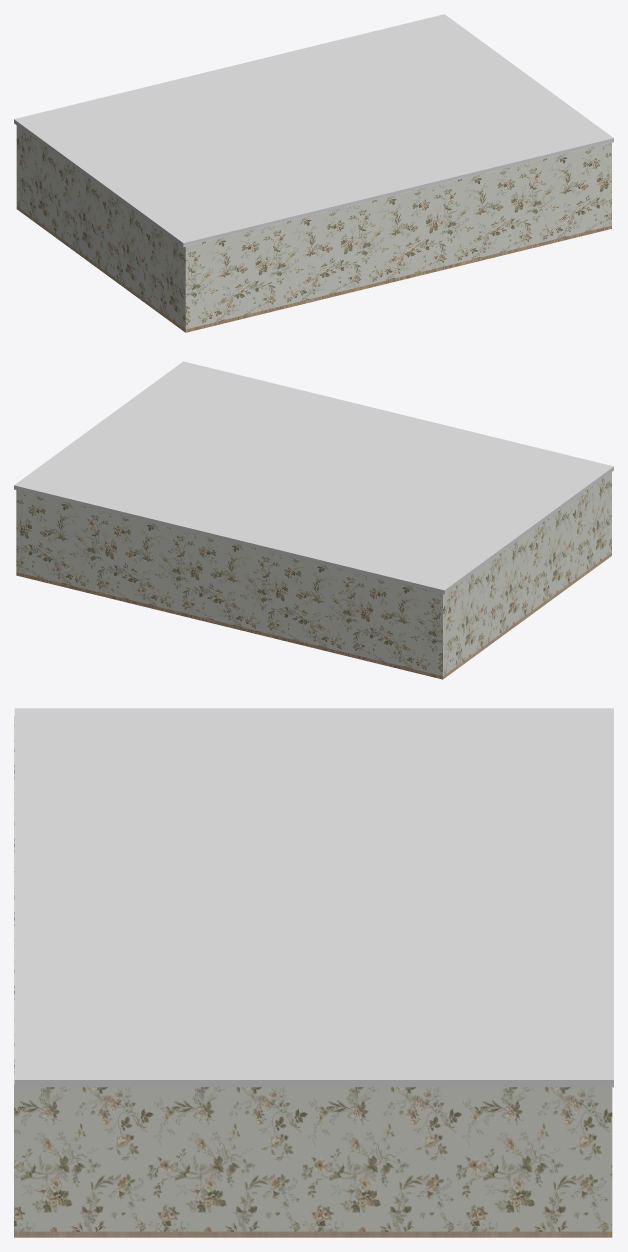
The model's file is gallery6.glb.
3 renders of one model, top to bottom at view 1: azimuth 30°, elevation 25°; view 2: azimuth 150°, elevation 25°; view 3: azimuth 270°, elevation 25°, orthographic. The views are drawn at different scales.
Parts seen in each view (by area): view 1: ceiling, walls; view 2: ceiling, walls; view 3: ceiling, walls.
Boxes of the visible parts, x1,y1,x2,y2 form: ceiling: (14, 14, 613, 247); walls: (16, 125, 611, 332); ceiling: (14, 361, 613, 594); walls: (16, 472, 611, 679); ceiling: (14, 708, 613, 1087); walls: (14, 716, 612, 1237).
Size of the model in its own units: 29.39 by 5.87 by 20.05.
Materials: 3 (2 with a texture image).
